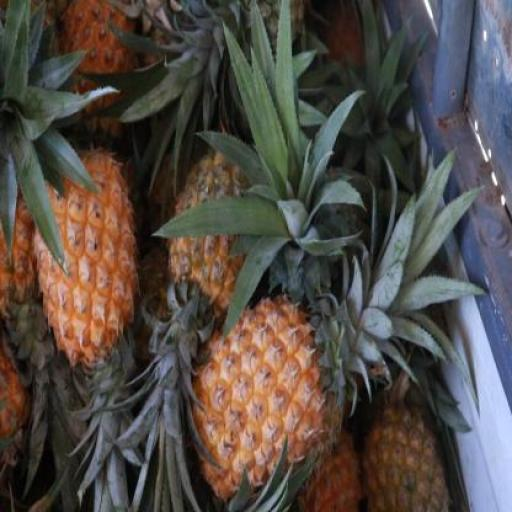------------------------------: (365, 394, 449, 512)
Pineapple - v8 v1: (189, 292, 338, 502), (31, 146, 143, 372)
